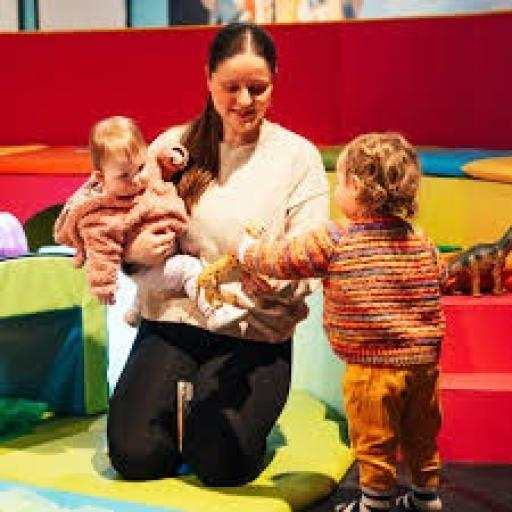baby: (237, 132, 446, 511), (55, 117, 188, 304)
